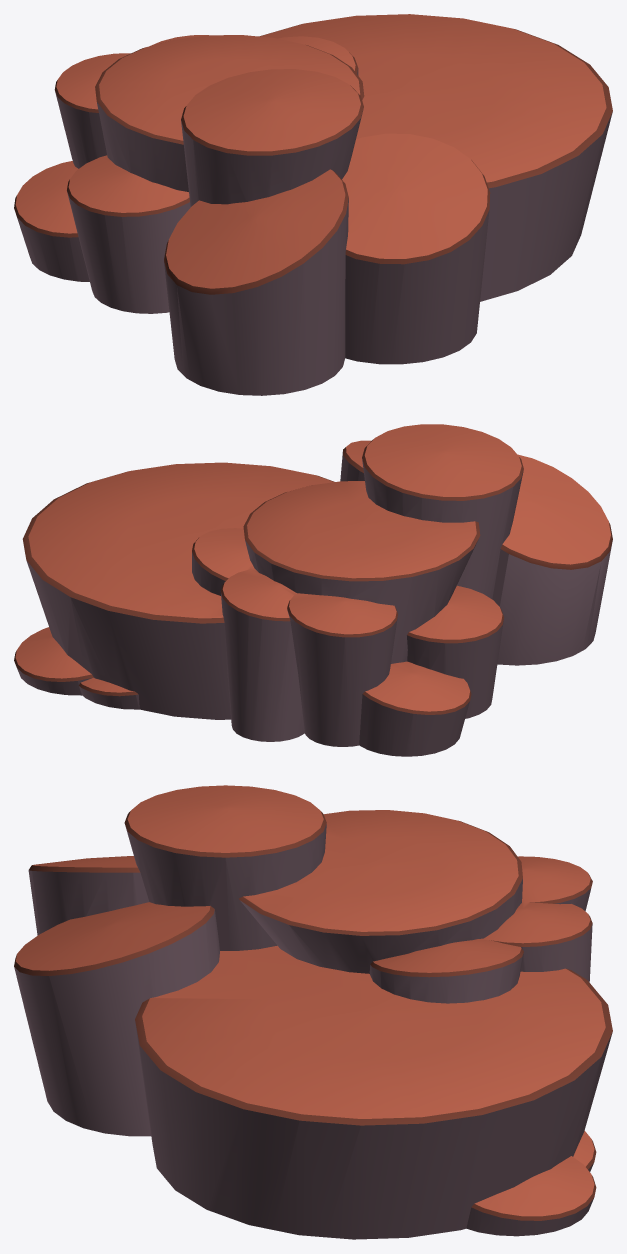
File: Cliff2.fbx
The picture shows the model from 3 angles, top to bottom: view 1: azimuth 30°, elevation 25°; view 2: azimuth 150°, elevation 25°; view 3: azimuth 270°, elevation 25°; orthographic projection. The views are drawn at different scales.
Parts seen in each view (by area): view 1: Model; view 2: Model; view 3: Model.
Part boxes in pixels (x1=…): Model: x1=14, y1=14, x2=612, y2=395; Model: x1=14, y1=424, x2=612, y2=756; Model: x1=14, y1=785, x2=612, y2=1239.
Bounding box in the file's own units: 3987 × 1631 × 3616.
